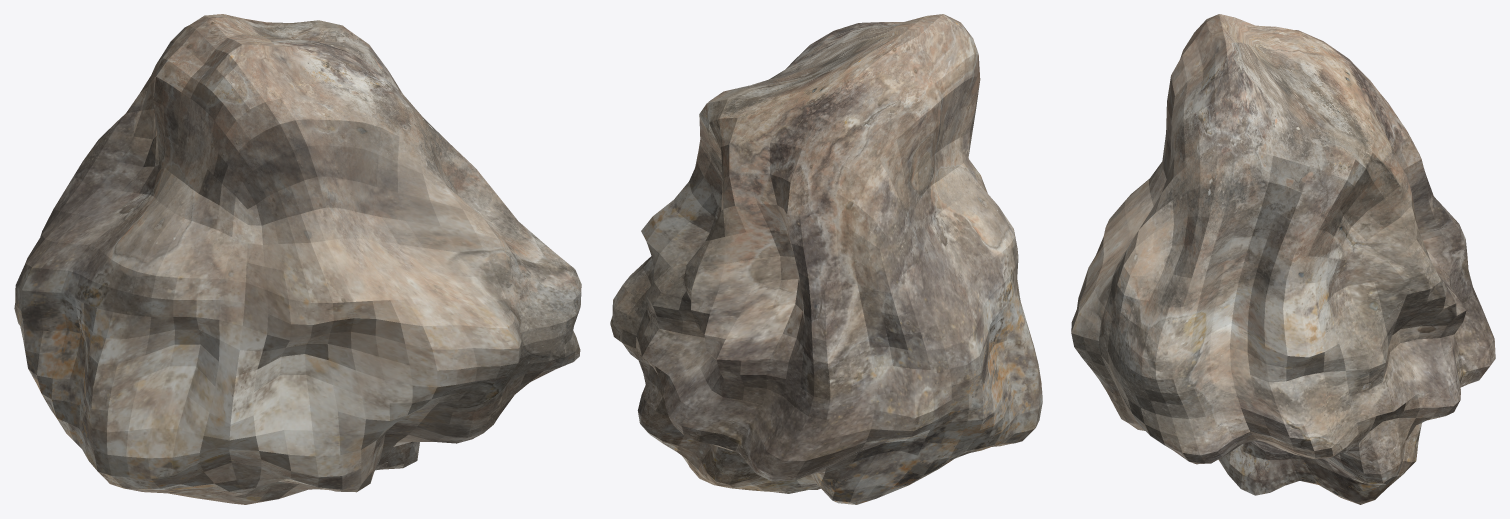
File: meteor.fbx
3 views of the same model, side by side, from view 1: azimuth 30°, elevation 25°; view 2: azimuth 150°, elevation 25°; view 3: azimuth 270°, elevation 25° (orthographic). The views are drawn at different scales.
Parts seen in each view (by area): view 1: Roundcube; view 2: Roundcube; view 3: Roundcube.
Boxes of the visible parts, bbox=[...] form: Roundcube: bbox=[14, 14, 581, 504]; Roundcube: bbox=[610, 14, 1042, 504]; Roundcube: bbox=[1071, 14, 1495, 504].
Size of the model in its own units: 110 by 115 by 106.
